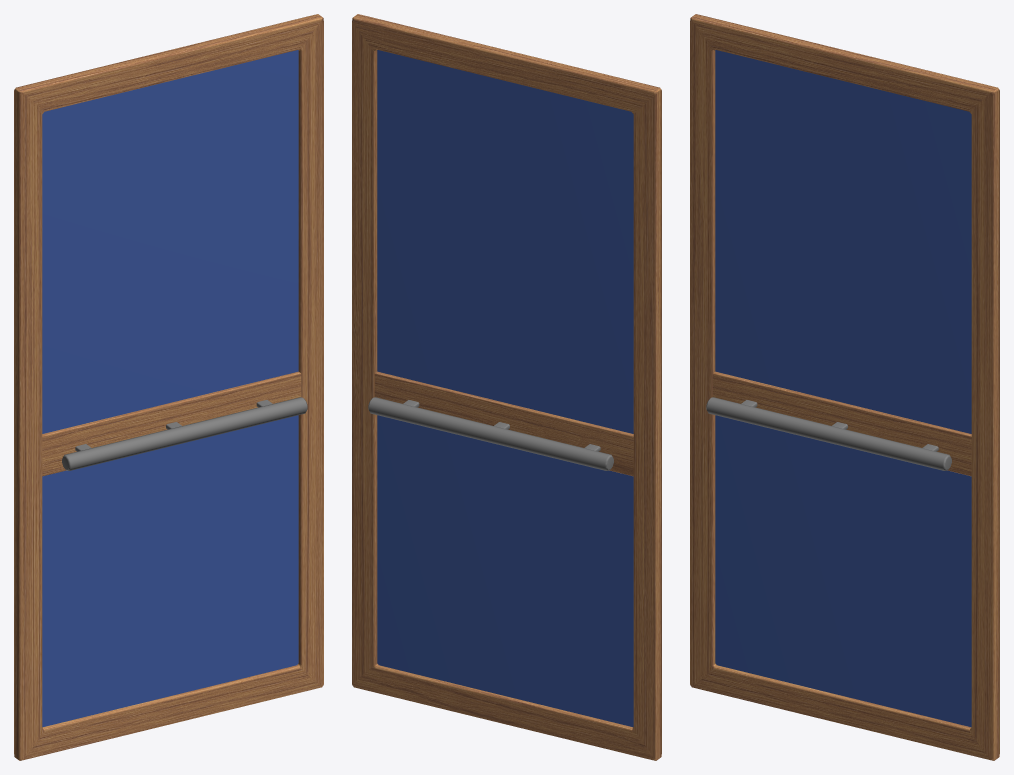
File: SM_door_glass_01.fbx
3 renders of one model, left to right at view 1: azimuth 30°, elevation 25°; view 2: azimuth 150°, elevation 25°; view 3: azimuth 330°, elevation 25°, orthographic.
Visible parts, largest first — view 1: door_glass; view 2: door_glass; view 3: door_glass.
Part boxes in pixels (x1,y1,x2,y2): door_glass: [14, 14, 323, 760]; door_glass: [352, 14, 661, 760]; door_glass: [690, 14, 999, 760].
Bounding box in the file's own units: 40.56 × 85.09 × 9.18.
3 materials, 1 textured.
